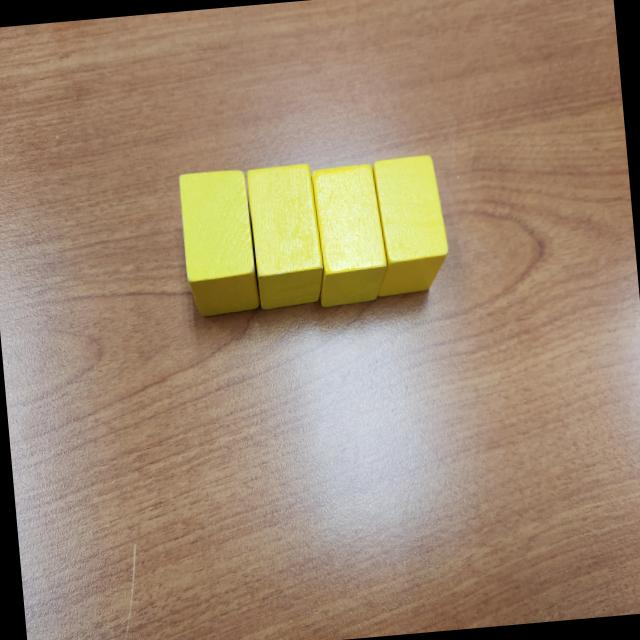yellow: (363, 152, 452, 298), (178, 167, 260, 319), (245, 162, 326, 312), (308, 164, 390, 308)
